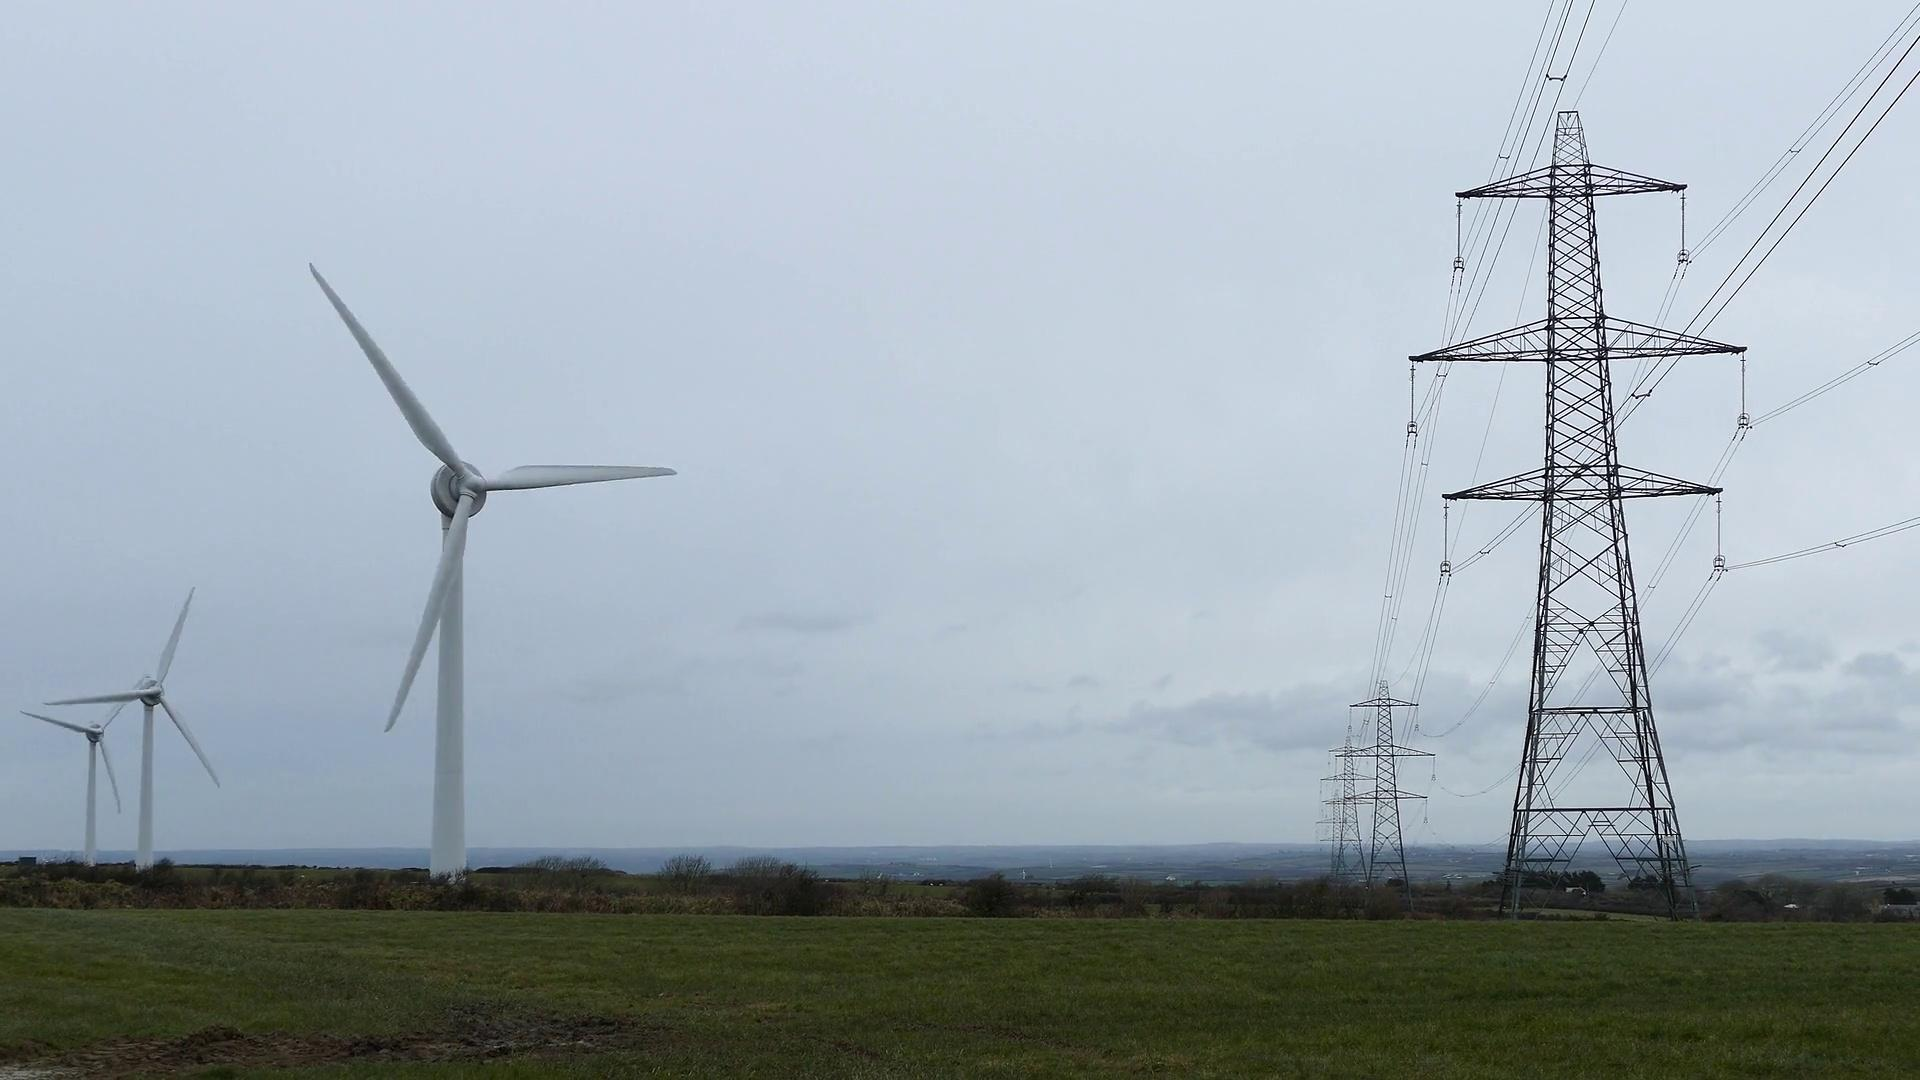cable tower: (1408, 108, 1750, 914), (1346, 680, 1435, 906), (1325, 738, 1375, 889), (1313, 793, 1353, 884)
turbine: (218, 175, 740, 949), (63, 579, 293, 918), (37, 633, 193, 887)
